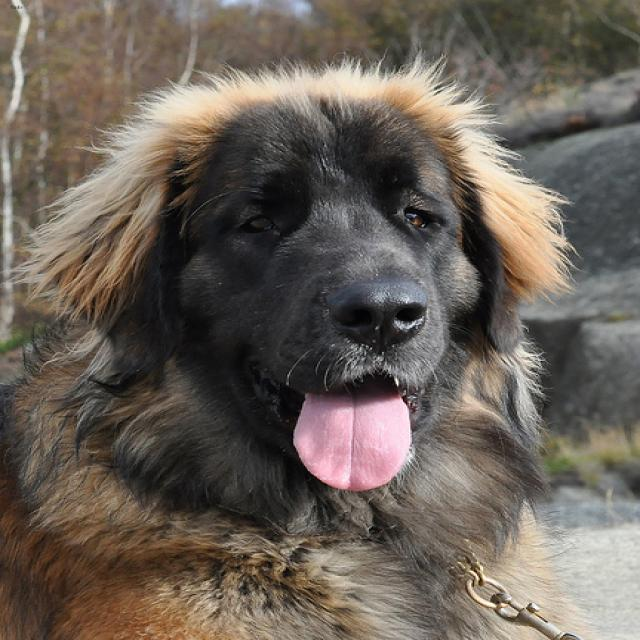dog-leonberger: (1, 46, 625, 637)
